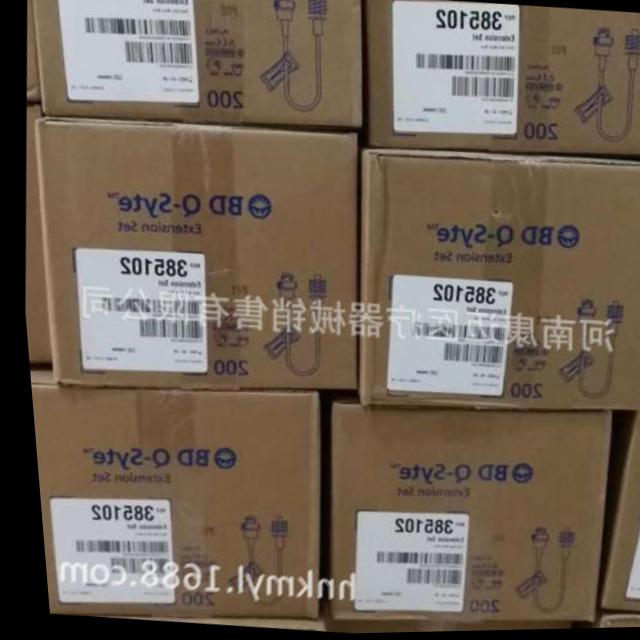box: (30, 113, 359, 392), (351, 131, 640, 414), (23, 366, 313, 621), (311, 391, 604, 624), (358, 0, 640, 159), (32, 0, 360, 131), (584, 387, 640, 616), (306, 599, 559, 634), (558, 612, 640, 631)
